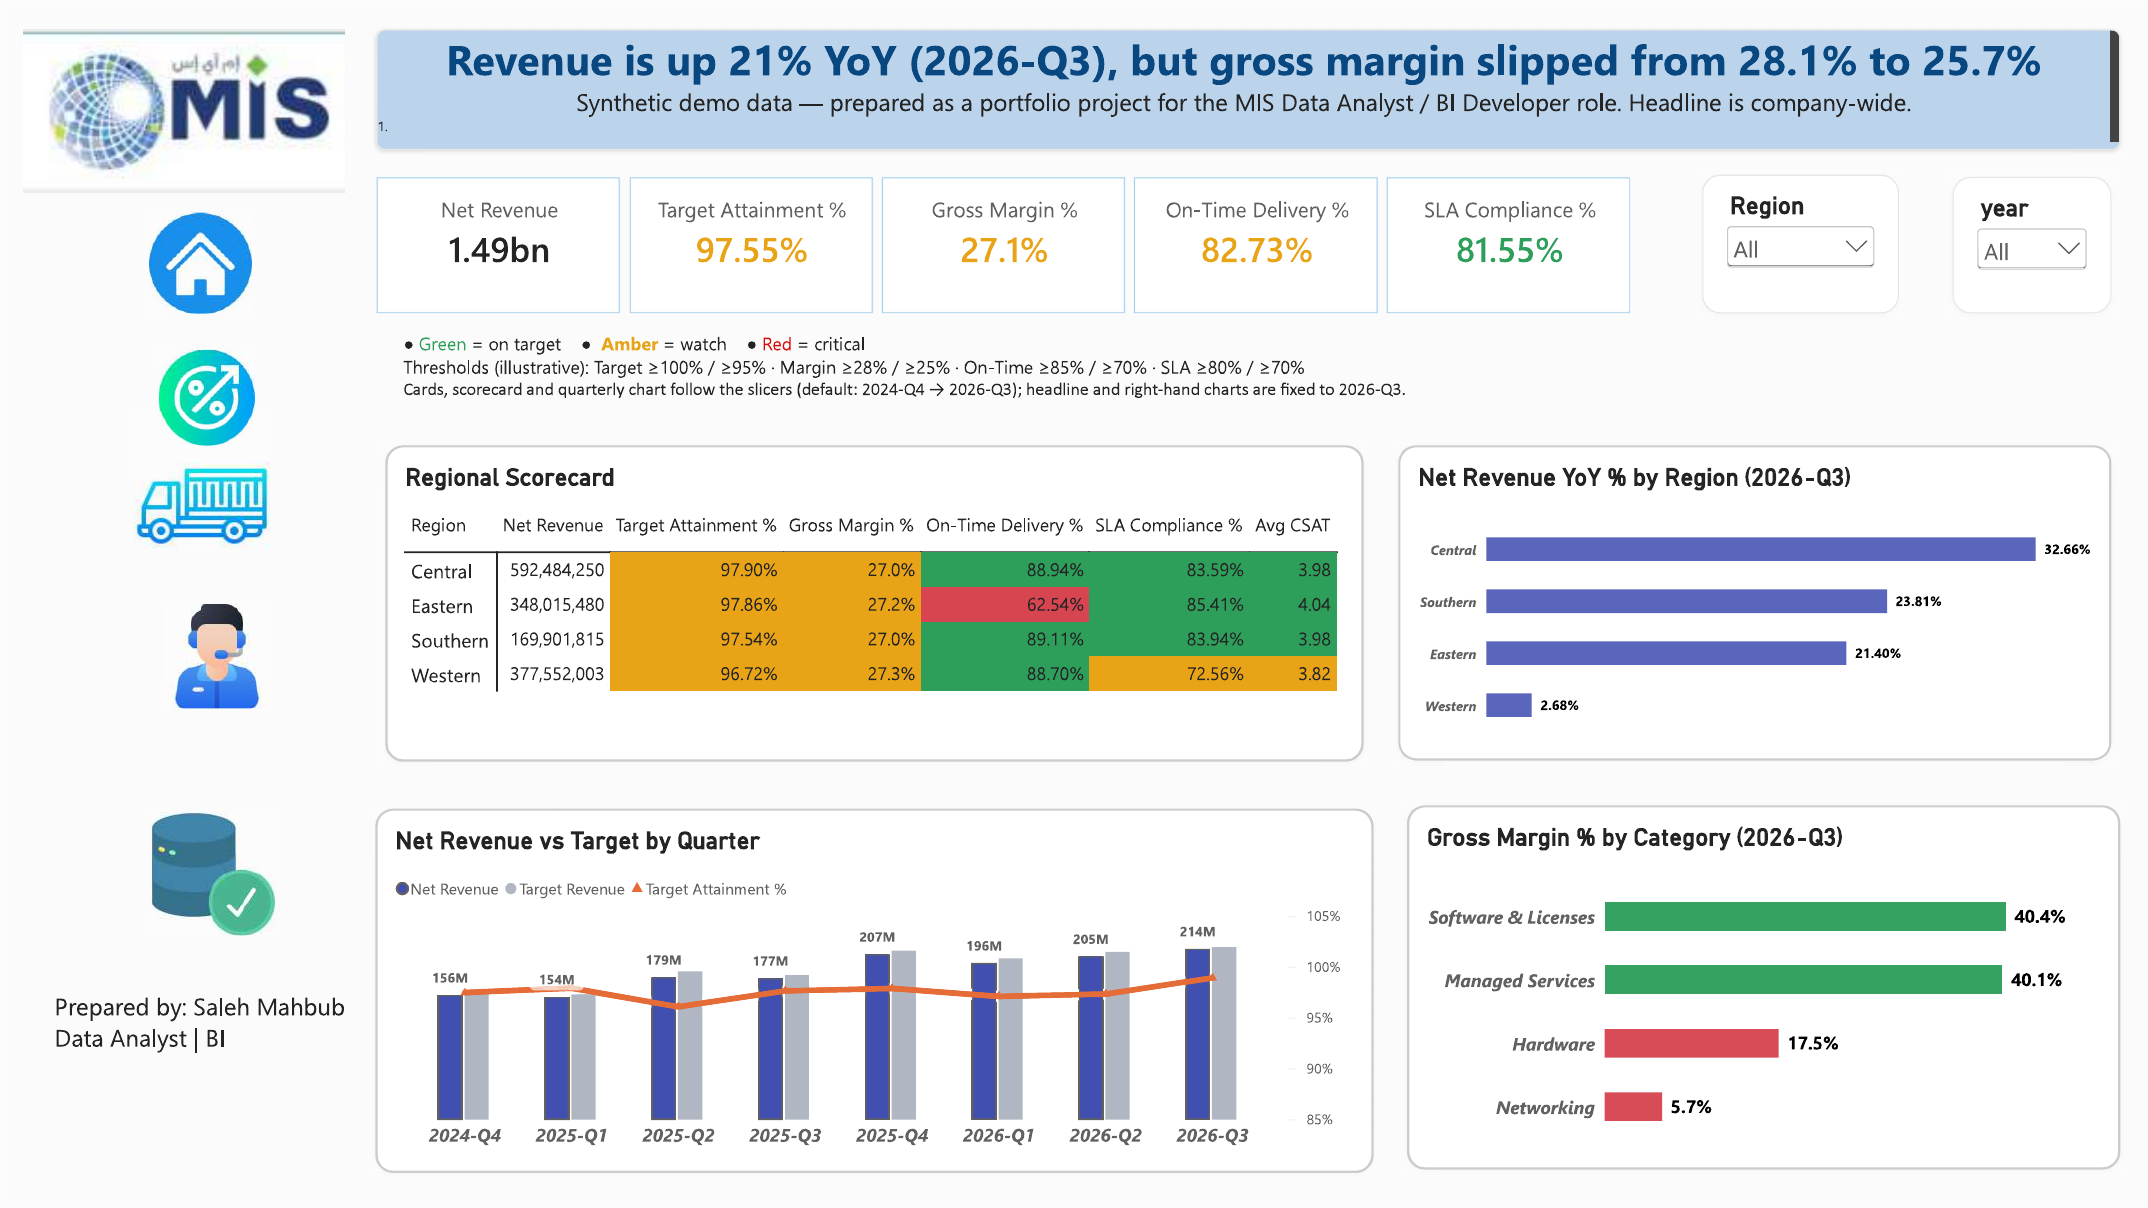

The dashboard page shown, as its layout file describes it:
{"tool":"powerbi","page":{"name":"Executive Overview","canvas":[1920,1080],"ordinal":0},"visuals":[{"type":"cardVisual","fields":{"Data":["_Measures.Net Revenue","_Measures.Target Attainment %","_Measures.Gross Margin %","_Measures.On-Time Delivery %","_Measures.SLA Compliance %"]},"box":[336,158,1122,122],"z":0},{"type":"lineClusteredColumnComboChart","title":"Net Revenue vs Target by Quarter","fields":{"Category":["dim_date.year_quarter"],"Y":["_Measures.Net Revenue","_Measures.Target Revenue"],"Y2":["_Measures.Target Attainment %"]},"box":[335,722.5,893.3,326.7],"z":1000},{"type":"pivotTable","title":"Regional Scorecard","fields":{"Rows":["dim_region.region_name_en"],"Values":["_Measures.Net Revenue","_Measures.Target Attainment %","_Measures.Gross Margin %","_Measures.On-Time Delivery %","_Measures.SLA Compliance %","_Measures.Avg CSAT"]},"box":[344,398,875,282.5],"z":2000},{"type":"slicer","fields":{"Values":["dim_region.region_name_en"]},"box":[1522,156,176,124],"z":3000},{"type":"slicer","fields":{"Values":["dim_date.year"]},"box":[1746,158,142,122],"z":4000},{"type":"textbox","box":[387.5,892.5,645,30],"z":5000},{"type":"textbox","box":[1662.5,695.2,216.9,53.1],"z":6000},{"type":"textbox","box":[336,26,1560,108],"z":7000},{"type":"image","box":[20,26,288,146],"z":8000},{"type":"image","box":[110,190,137.5,90],"z":9000},{"type":"image","box":[122.5,312.5,122.5,85],"z":10000},{"type":"textbox","box":[360,296,1046,72],"z":11000},{"type":"clusteredBarChart","title":"Net Revenue YoY % by Region (2026-Q3)","fields":{"Category":["dim_region.Region"],"Y":["_Measures.Net Revenue YoY %"]},"box":[1250,398,638,282],"z":12000},{"type":"clusteredBarChart","title":"Gross Margin % by Category (2026-Q3)","fields":{"Category":["dim_category.category_name"],"Y":["_Measures.Gross Margin %"]},"box":[1257.5,720,638,326],"z":13000},{"type":"image","box":[105,367.5,150,122.5],"z":14000},{"type":"image","box":[122.5,540,140,92.5],"z":15000},{"type":"image","box":[135,667.5,110,225],"z":15001},{"type":"textbox","box":[47.5,885,287.5,62.5],"z":15002}]}

Visuals, with their boxes in screenshot pixels (x1, y1, x2, y2), scaled from the page's 1920x1080 canvas onto the 2148x1208 screenshot:
cardVisual - _Measures.Net Revenue x _Measures.Target Attainment %: l=376, t=177, r=1631, b=313
"Net Revenue vs Target by Quarter" lineClusteredColumnComboChart: l=375, t=808, r=1374, b=1174
"Regional Scorecard" pivotTable: l=385, t=445, r=1364, b=761
slicer - dim_region.region_name_en: l=1703, t=174, r=1900, b=313
slicer - dim_date.year: l=1953, t=177, r=2112, b=313
textbox: l=434, t=998, r=1155, b=1032
textbox: l=1860, t=778, r=2103, b=837
textbox: l=376, t=29, r=2121, b=150
image: l=22, t=29, r=345, b=192
image: l=123, t=213, r=277, b=313
image: l=137, t=350, r=274, b=445
textbox: l=403, t=331, r=1573, b=412
"Net Revenue YoY % by Region (2026-Q3)" clusteredBarChart: l=1398, t=445, r=2112, b=761
"Gross Margin % by Category (2026-Q3)" clusteredBarChart: l=1407, t=805, r=2121, b=1170
image: l=117, t=411, r=285, b=548
image: l=137, t=604, r=294, b=707
image: l=151, t=747, r=274, b=998
textbox: l=53, t=990, r=375, b=1060
